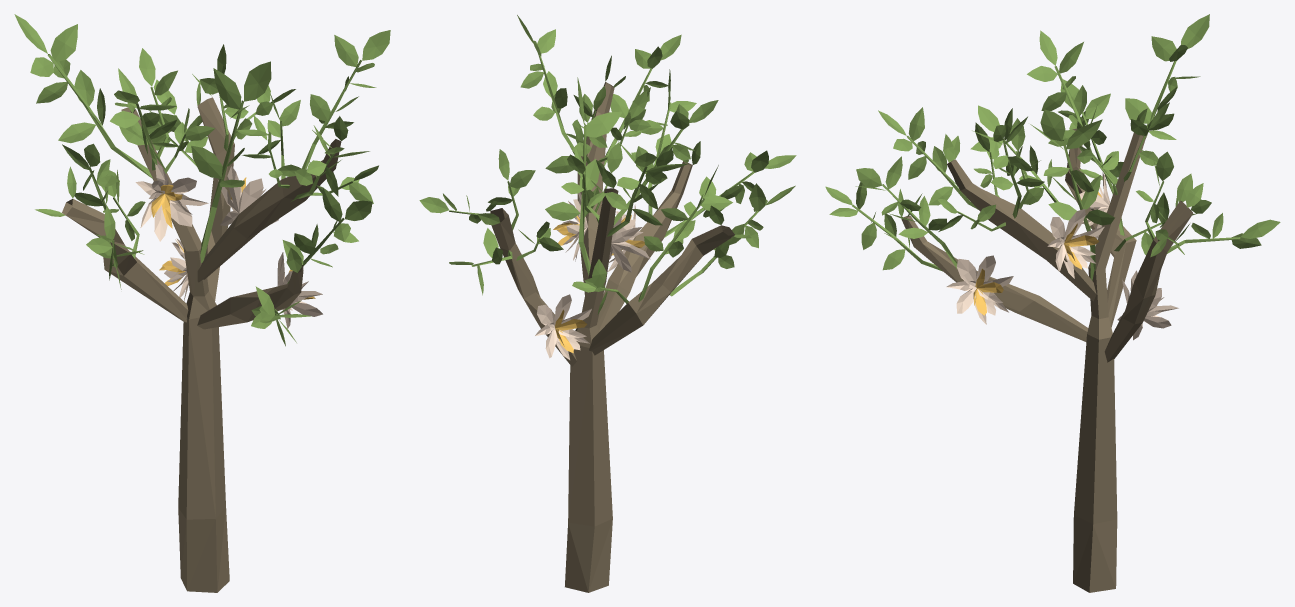
The model's file is Apple_4_3.fbx.
The picture shows the model from 3 angles, left to right: view 1: azimuth 30°, elevation 25°; view 2: azimuth 150°, elevation 25°; view 3: azimuth 270°, elevation 25°; orthographic projection. The views are drawn at different scales.
Visible parts, largest first — view 1: Apple_4_3; view 2: Apple_4_3; view 3: Apple_4_3.
Boxes of the visible parts, left/top/right/bottom form: Apple_4_3: left=14, top=14, right=390, bottom=592; Apple_4_3: left=419, top=15, right=796, bottom=592; Apple_4_3: left=825, top=14, right=1280, bottom=592.
Bounding box in the file's own units: 200 × 340 × 271.
